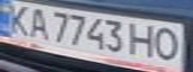3: (103, 17, 130, 55)
4: (84, 16, 109, 52)
7: (45, 9, 72, 44), (66, 12, 87, 47)
A: (24, 6, 51, 39)
H: (127, 21, 160, 59)
K: (0, 1, 36, 36)
O: (151, 25, 187, 62)
